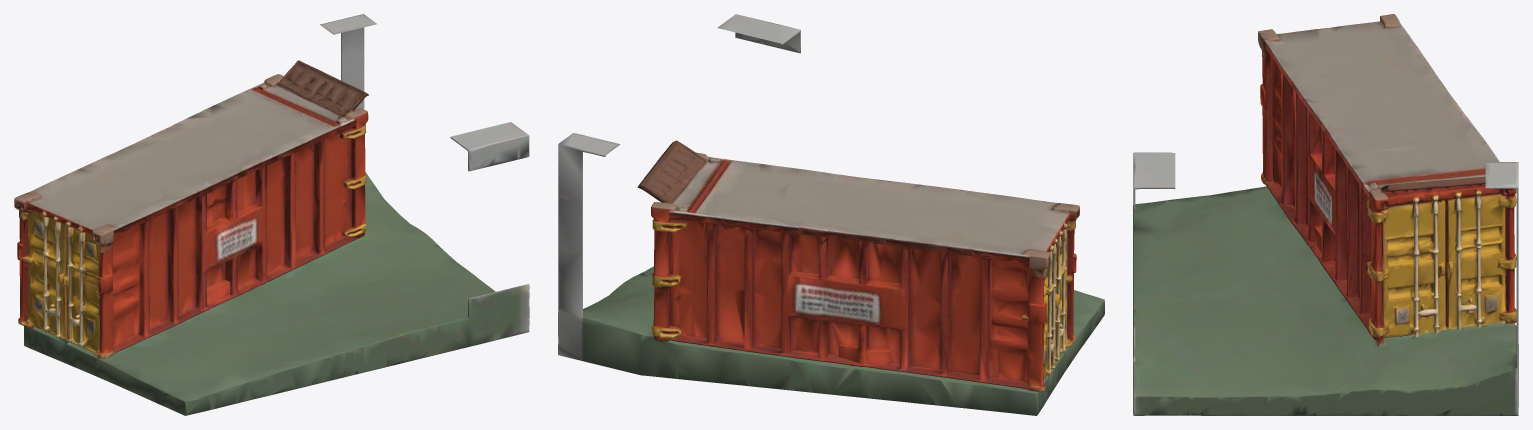
The model's file is uk-red-box.glb.
3 renders of one model, left to right at view 1: azimuth 30°, elevation 25°; view 2: azimuth 150°, elevation 25°; view 3: azimuth 270°, elevation 25°, orthographic. The views are drawn at different scales.
Visible parts, largest first — view 1: tripo_node_5cb9ae95-f6ac-4ba0-a8cb-b0d5f354dd1e; view 2: tripo_node_5cb9ae95-f6ac-4ba0-a8cb-b0d5f354dd1e; view 3: tripo_node_5cb9ae95-f6ac-4ba0-a8cb-b0d5f354dd1e.
Boxes of the visible parts, x1,y1,x2,y2 form: tripo_node_5cb9ae95-f6ac-4ba0-a8cb-b0d5f354dd1e: [14, 14, 529, 415]; tripo_node_5cb9ae95-f6ac-4ba0-a8cb-b0d5f354dd1e: [558, 14, 1104, 415]; tripo_node_5cb9ae95-f6ac-4ba0-a8cb-b0d5f354dd1e: [1133, 14, 1518, 415].
Size of the model in its own units: 0.9999 by 0.4676 by 0.7137.
1 material, 1 textured.
